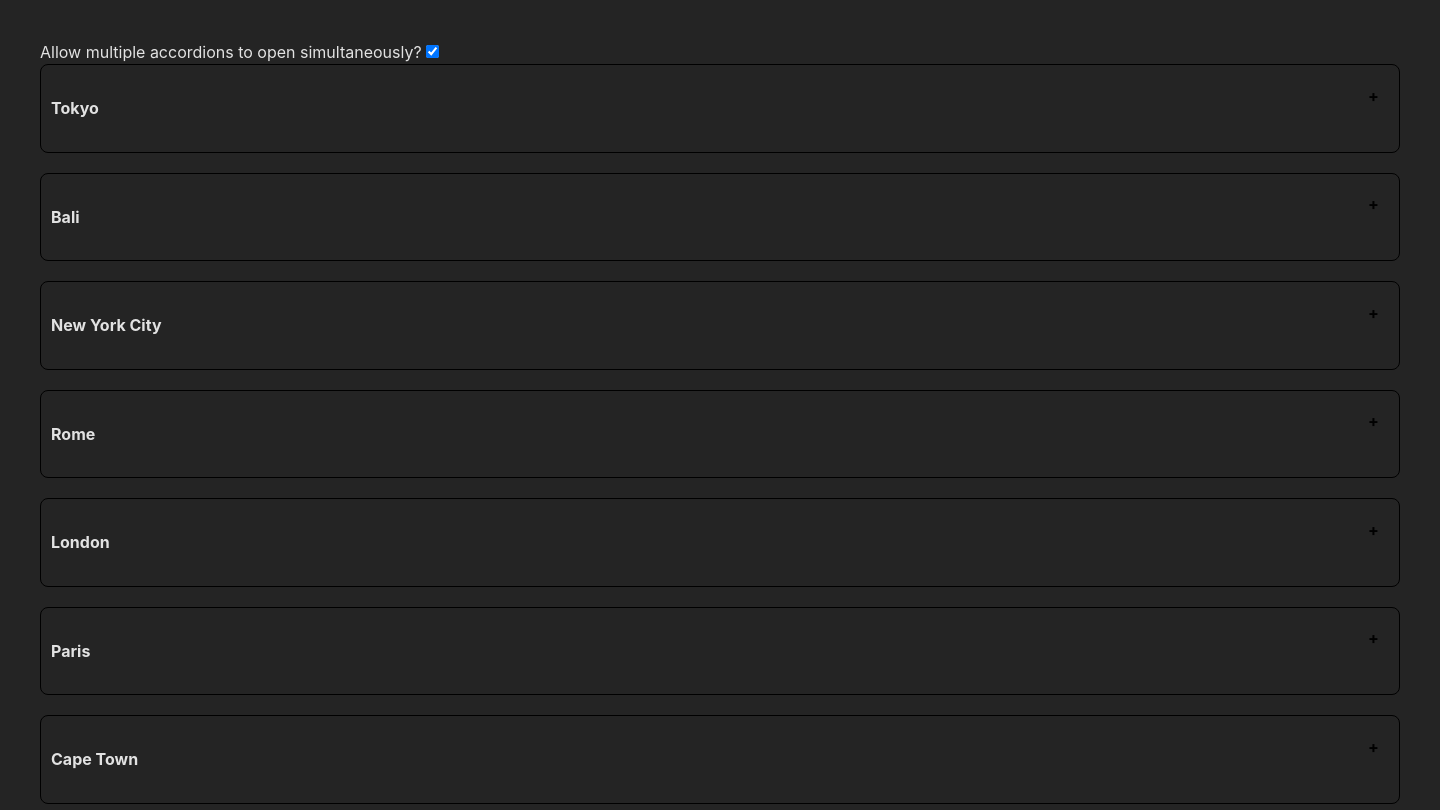
Test: App Component › restricts multiple accordian panels from opening when checkbox is unchecked
Click the checkbox. click: click(432, 52)
box: [426,45,439,58]
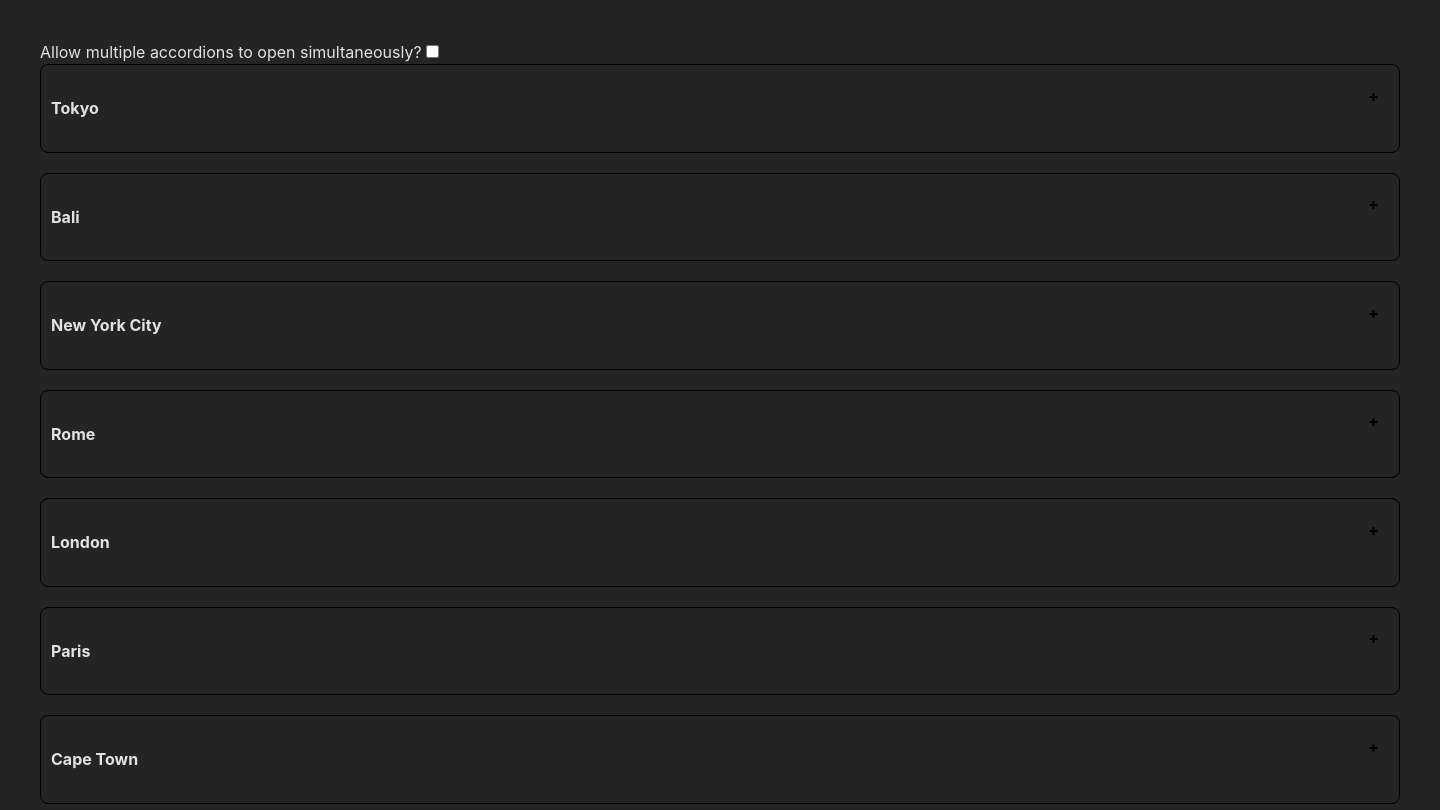
Expected: the checkbox is not checked, [426,45,439,58]
Click the button "+" in the row of "Tokyo". click: click(1373, 96)
box: [1348,75,1399,116]
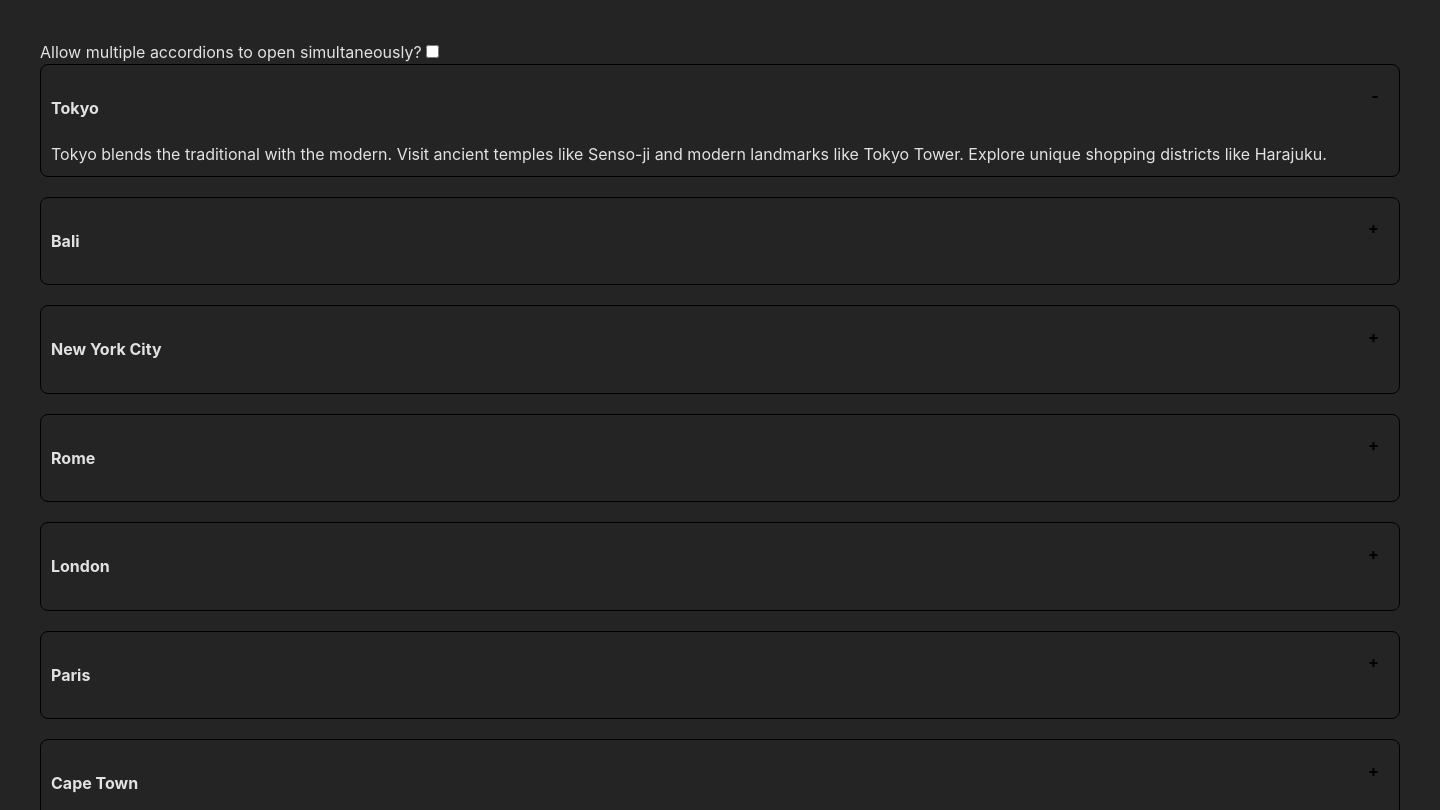
Click the button "+" in the row of "Bali". click: click(1373, 228)
box: [1348,208,1399,249]
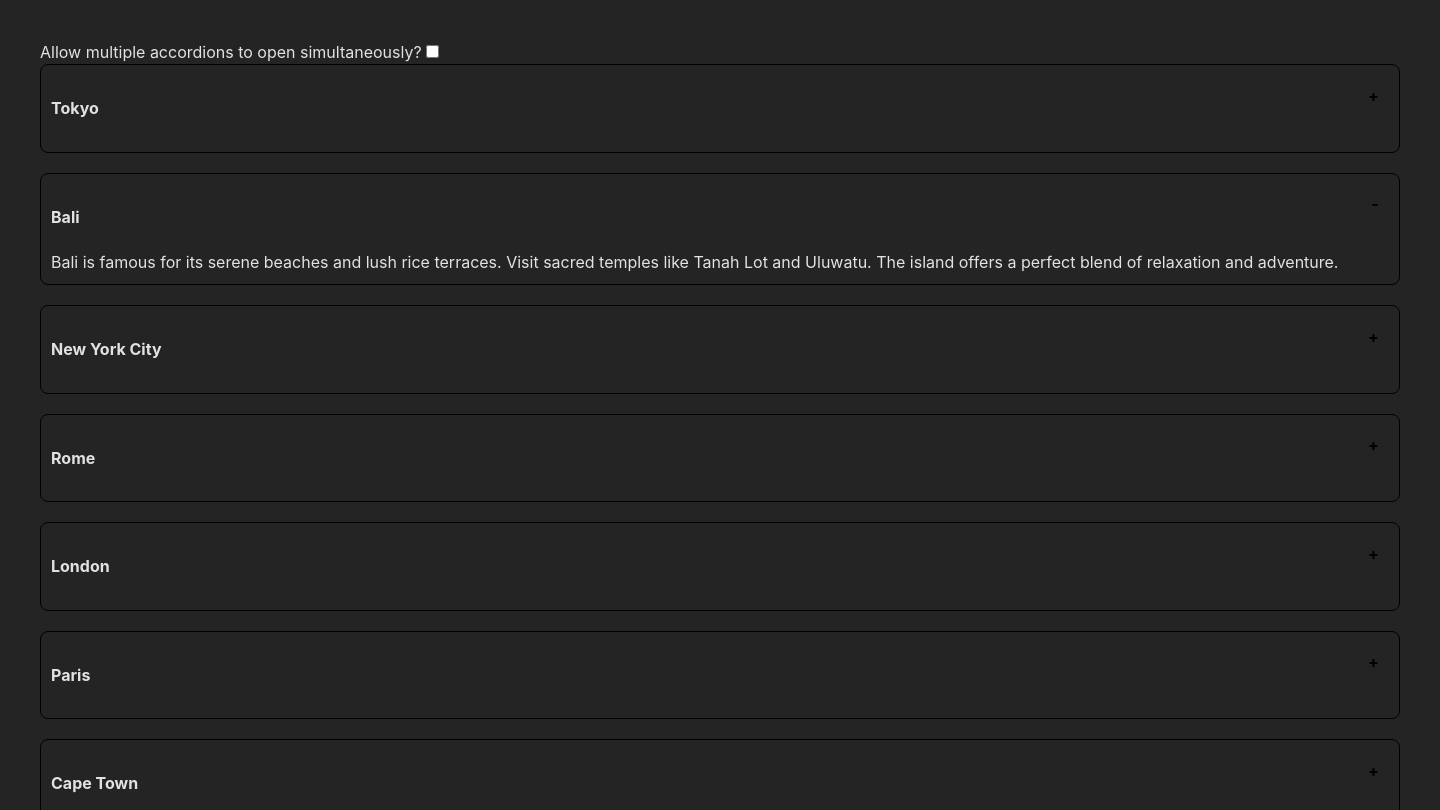
Expected: the button "+" in the row of "Tokyo" is shown, [1348,75,1399,116]
Expected: the button "-" is shown, [1351,184,1399,225]
